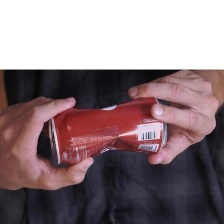can: (45, 92, 169, 169)
